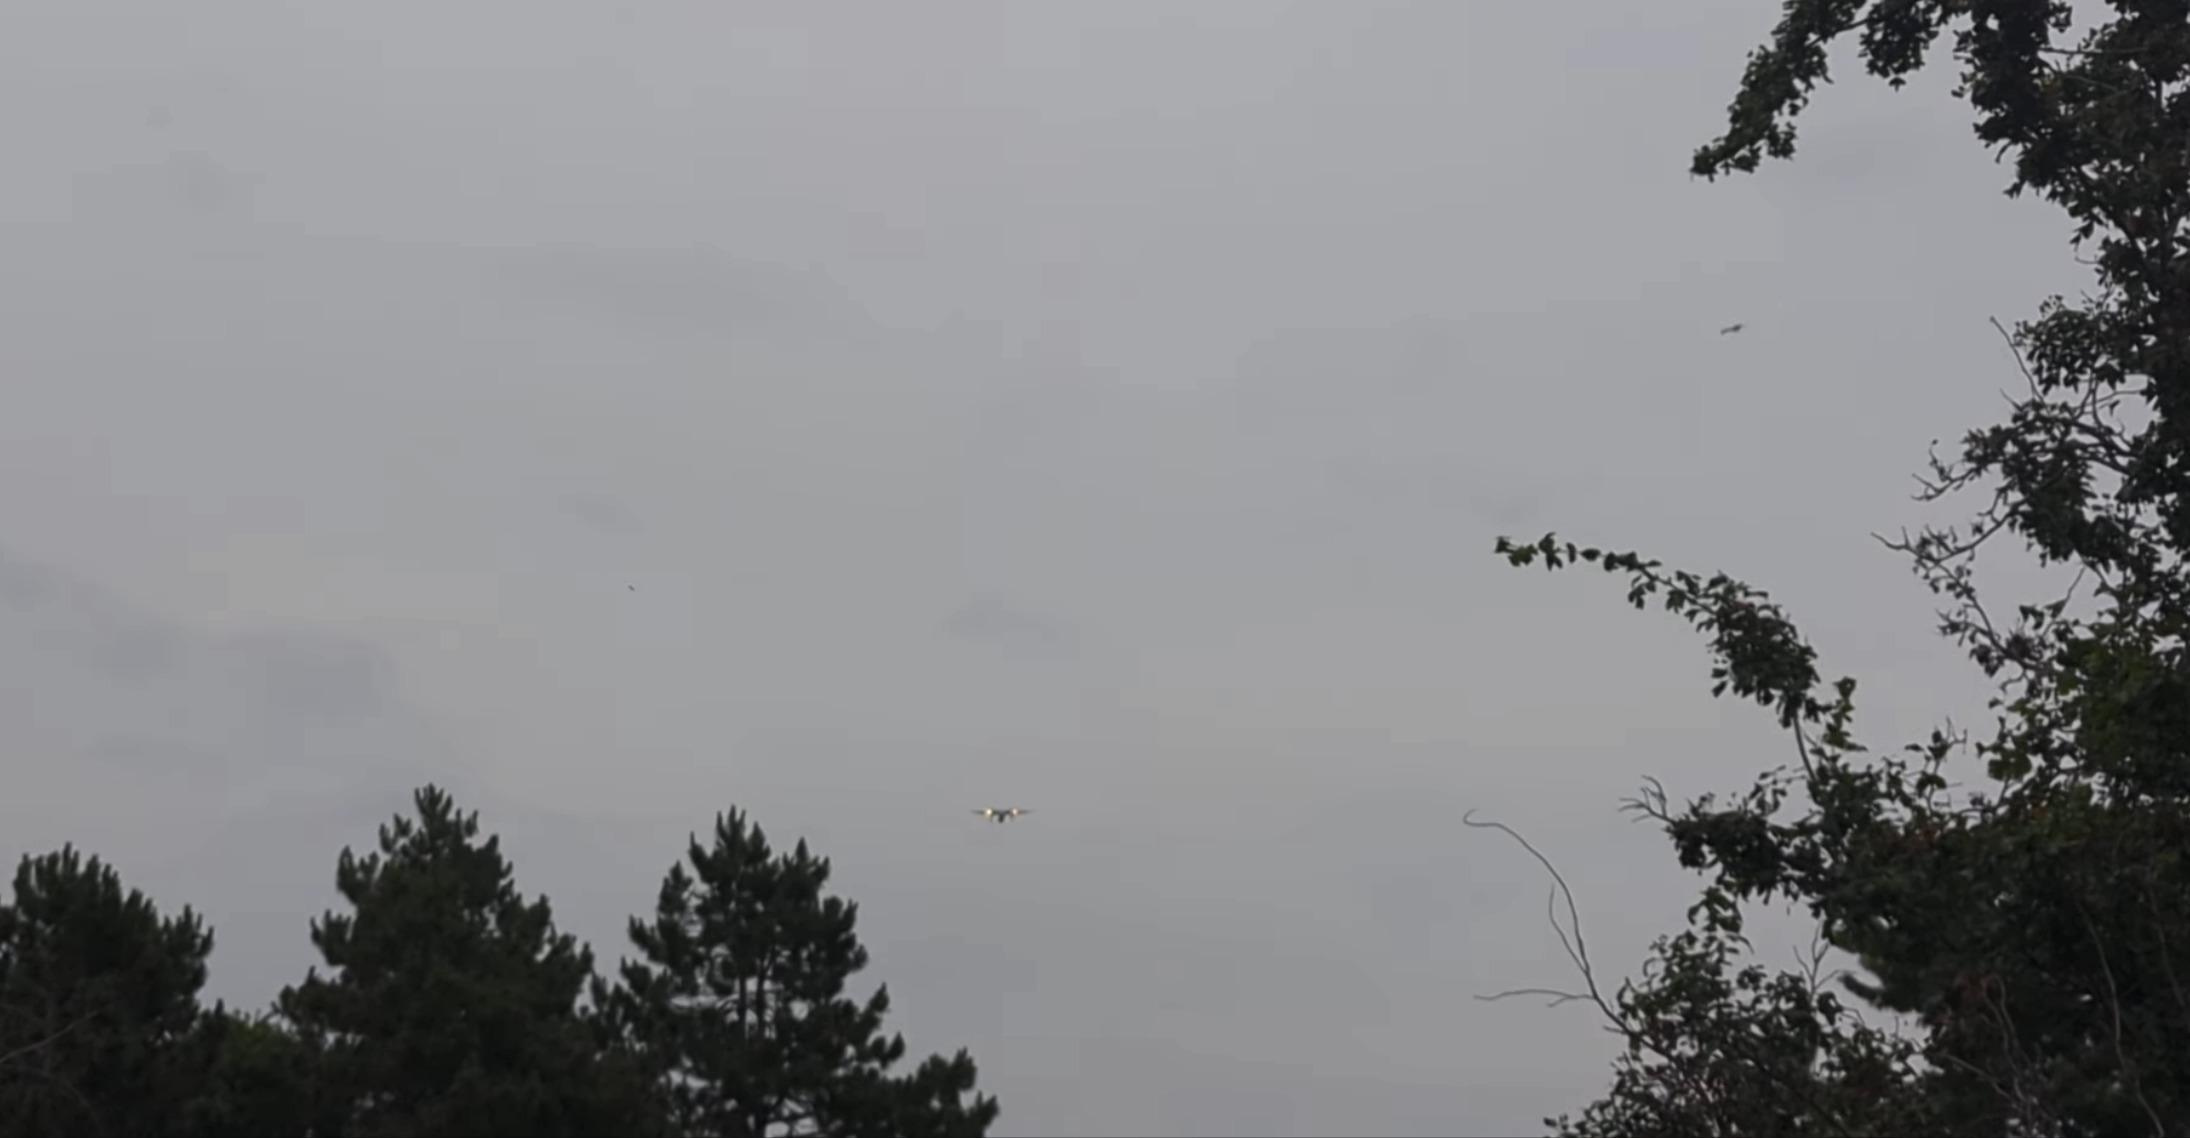Plane: (931, 783, 1056, 844)
